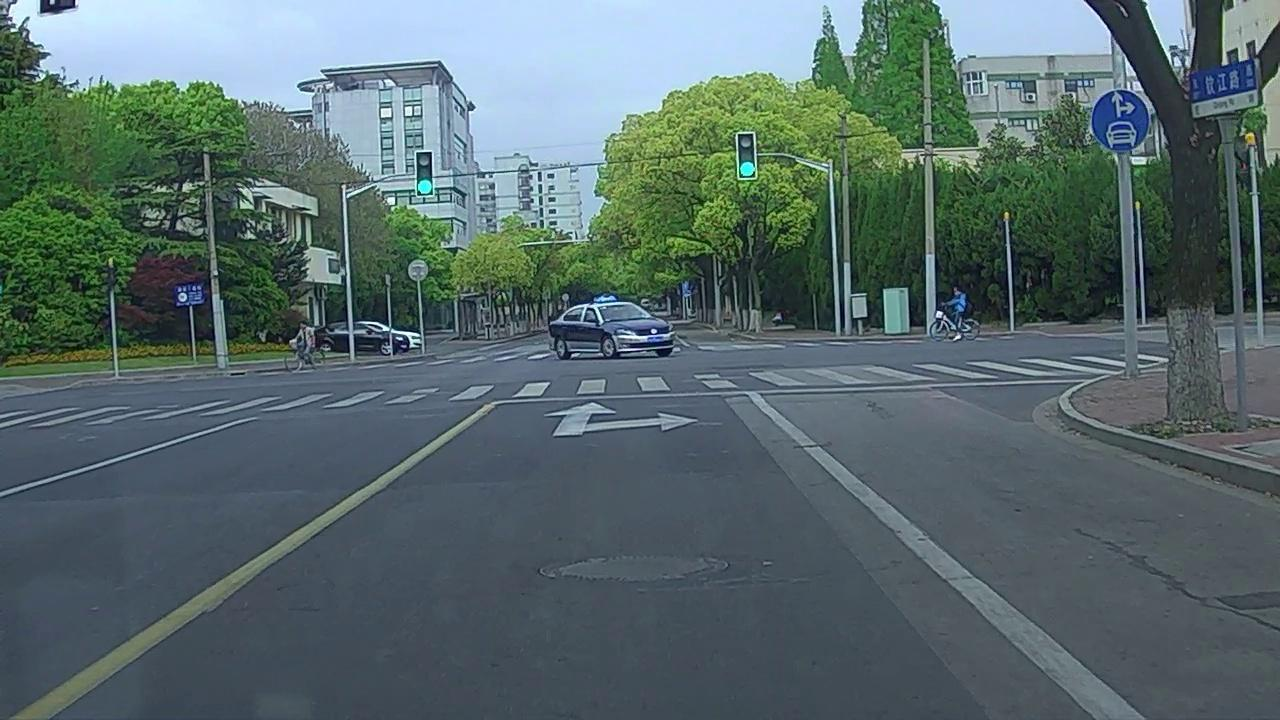traffic_light: (738, 134, 755, 177), (416, 150, 432, 195)
